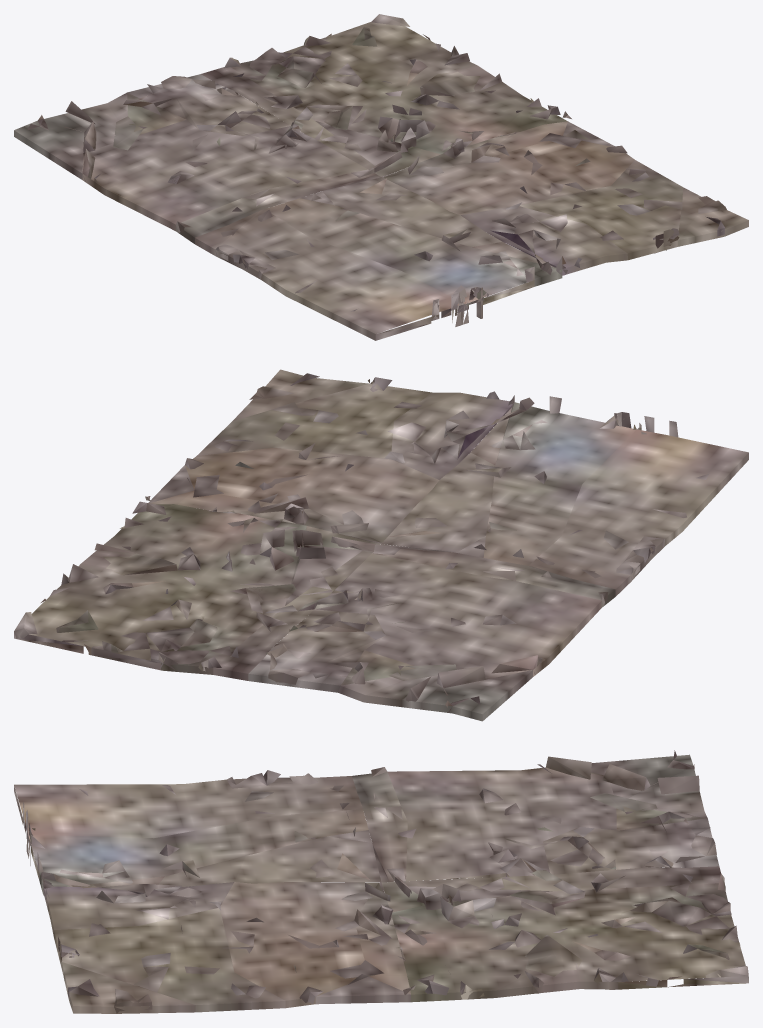
3 views of the same model, one above another, from view 1: azimuth 30°, elevation 25°; view 2: azimuth 150°, elevation 25°; view 3: azimuth 270°, elevation 25° (orthographic). The views are drawn at different scales.
Parts seen in each view (by area): view 1: Mesh_0; view 2: Mesh_0; view 3: Mesh_0.
Part boxes in pixels (<box>): Mesh_0: <box>14,14,748,340</box>; Mesh_0: <box>14,369,748,721</box>; Mesh_0: <box>14,750,748,1013</box>.
Size of the model in its own units: 1065 by 89 by 1318.
1 material, 1 textured.
